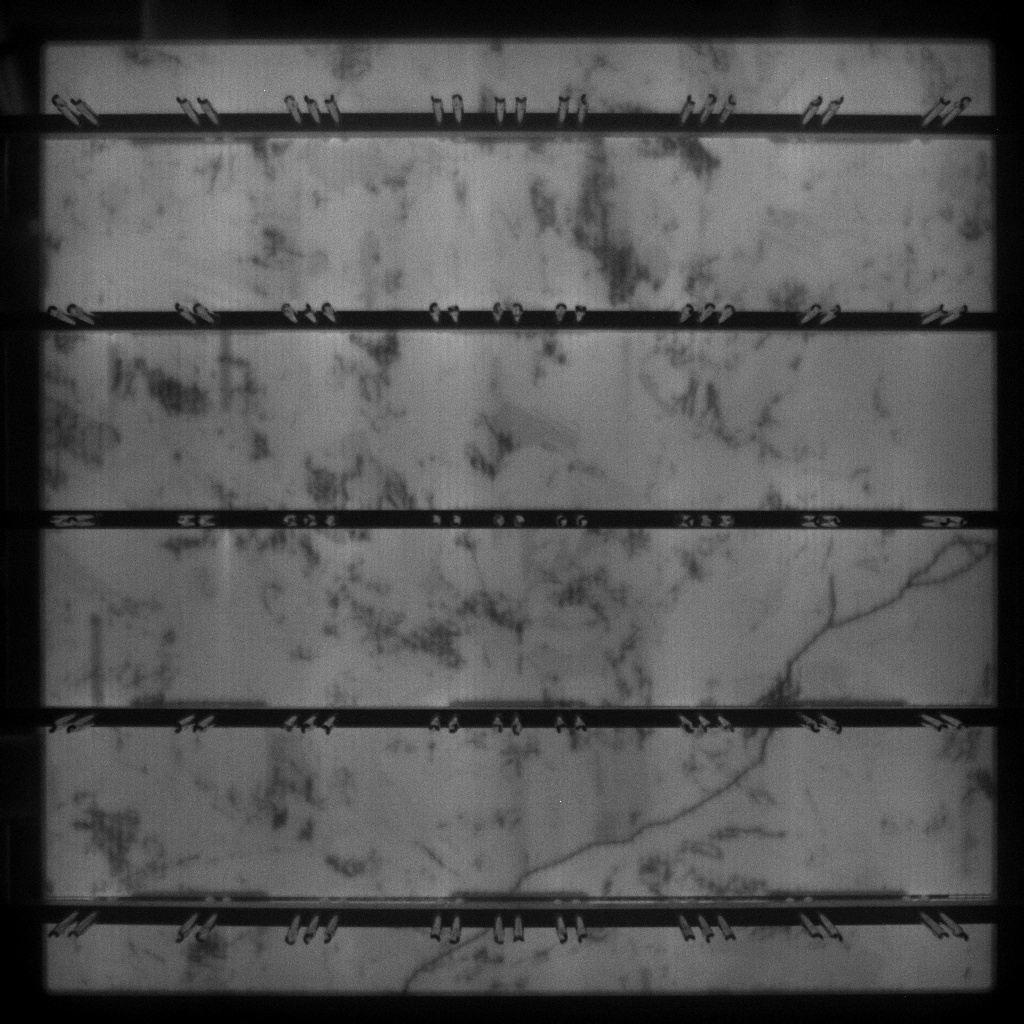crack: (505, 731, 777, 890), (777, 535, 994, 700), (398, 948, 464, 986)
